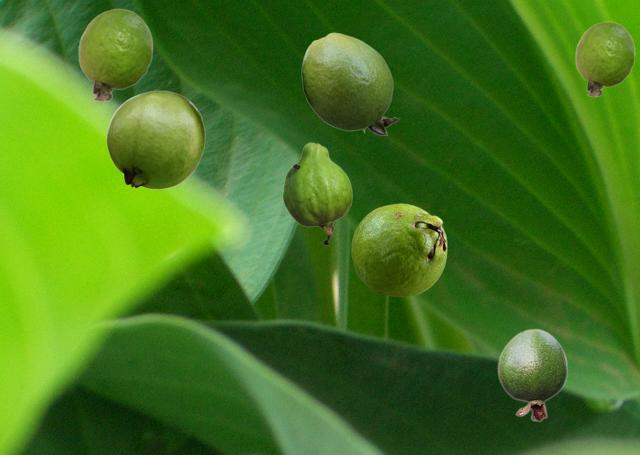guava: (301, 32, 398, 134), (106, 90, 204, 188), (351, 203, 446, 296), (282, 142, 351, 244), (78, 8, 152, 101), (497, 328, 567, 421), (575, 21, 634, 96)
